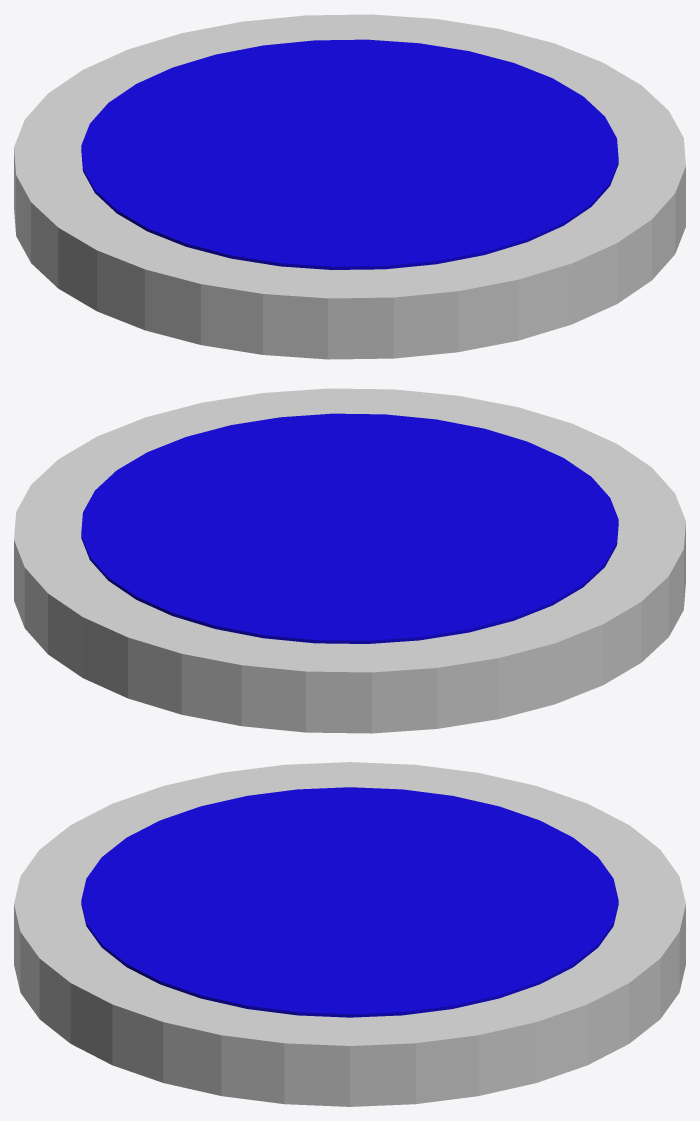
Rendered from TestSpace.fbx.
3 views of the same model, one above another, from view 1: azimuth 30°, elevation 25°; view 2: azimuth 150°, elevation 25°; view 3: azimuth 270°, elevation 25° (orthographic).
Visible parts, largest first — view 1: Cylinder.001, Cylinder; view 2: Cylinder.001, Cylinder; view 3: Cylinder.001, Cylinder.
Part boxes in pixels (x1,y1,x2,y2): Cylinder.001: (81, 39, 618, 269); Cylinder: (14, 14, 685, 359); Cylinder.001: (81, 413, 618, 643); Cylinder: (14, 388, 685, 733); Cylinder.001: (81, 787, 618, 1017); Cylinder: (14, 762, 685, 1106).
Size of the model in its own units: 200 by 21.06 by 200.
